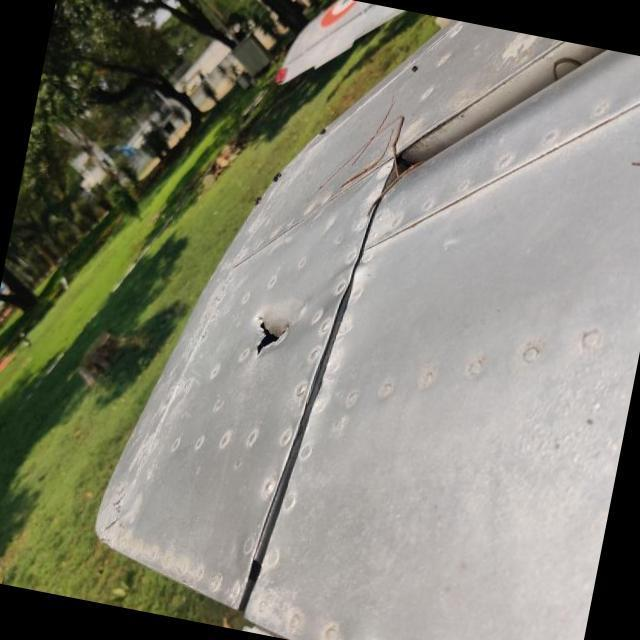Rupture: (239, 306, 310, 372)
